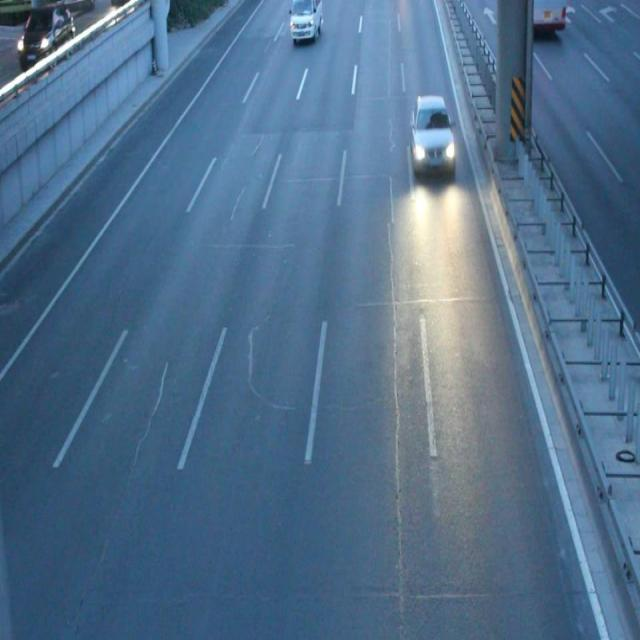car: (409, 96, 454, 171)
truck: (289, 1, 322, 40)
van: (524, 1, 565, 30)
